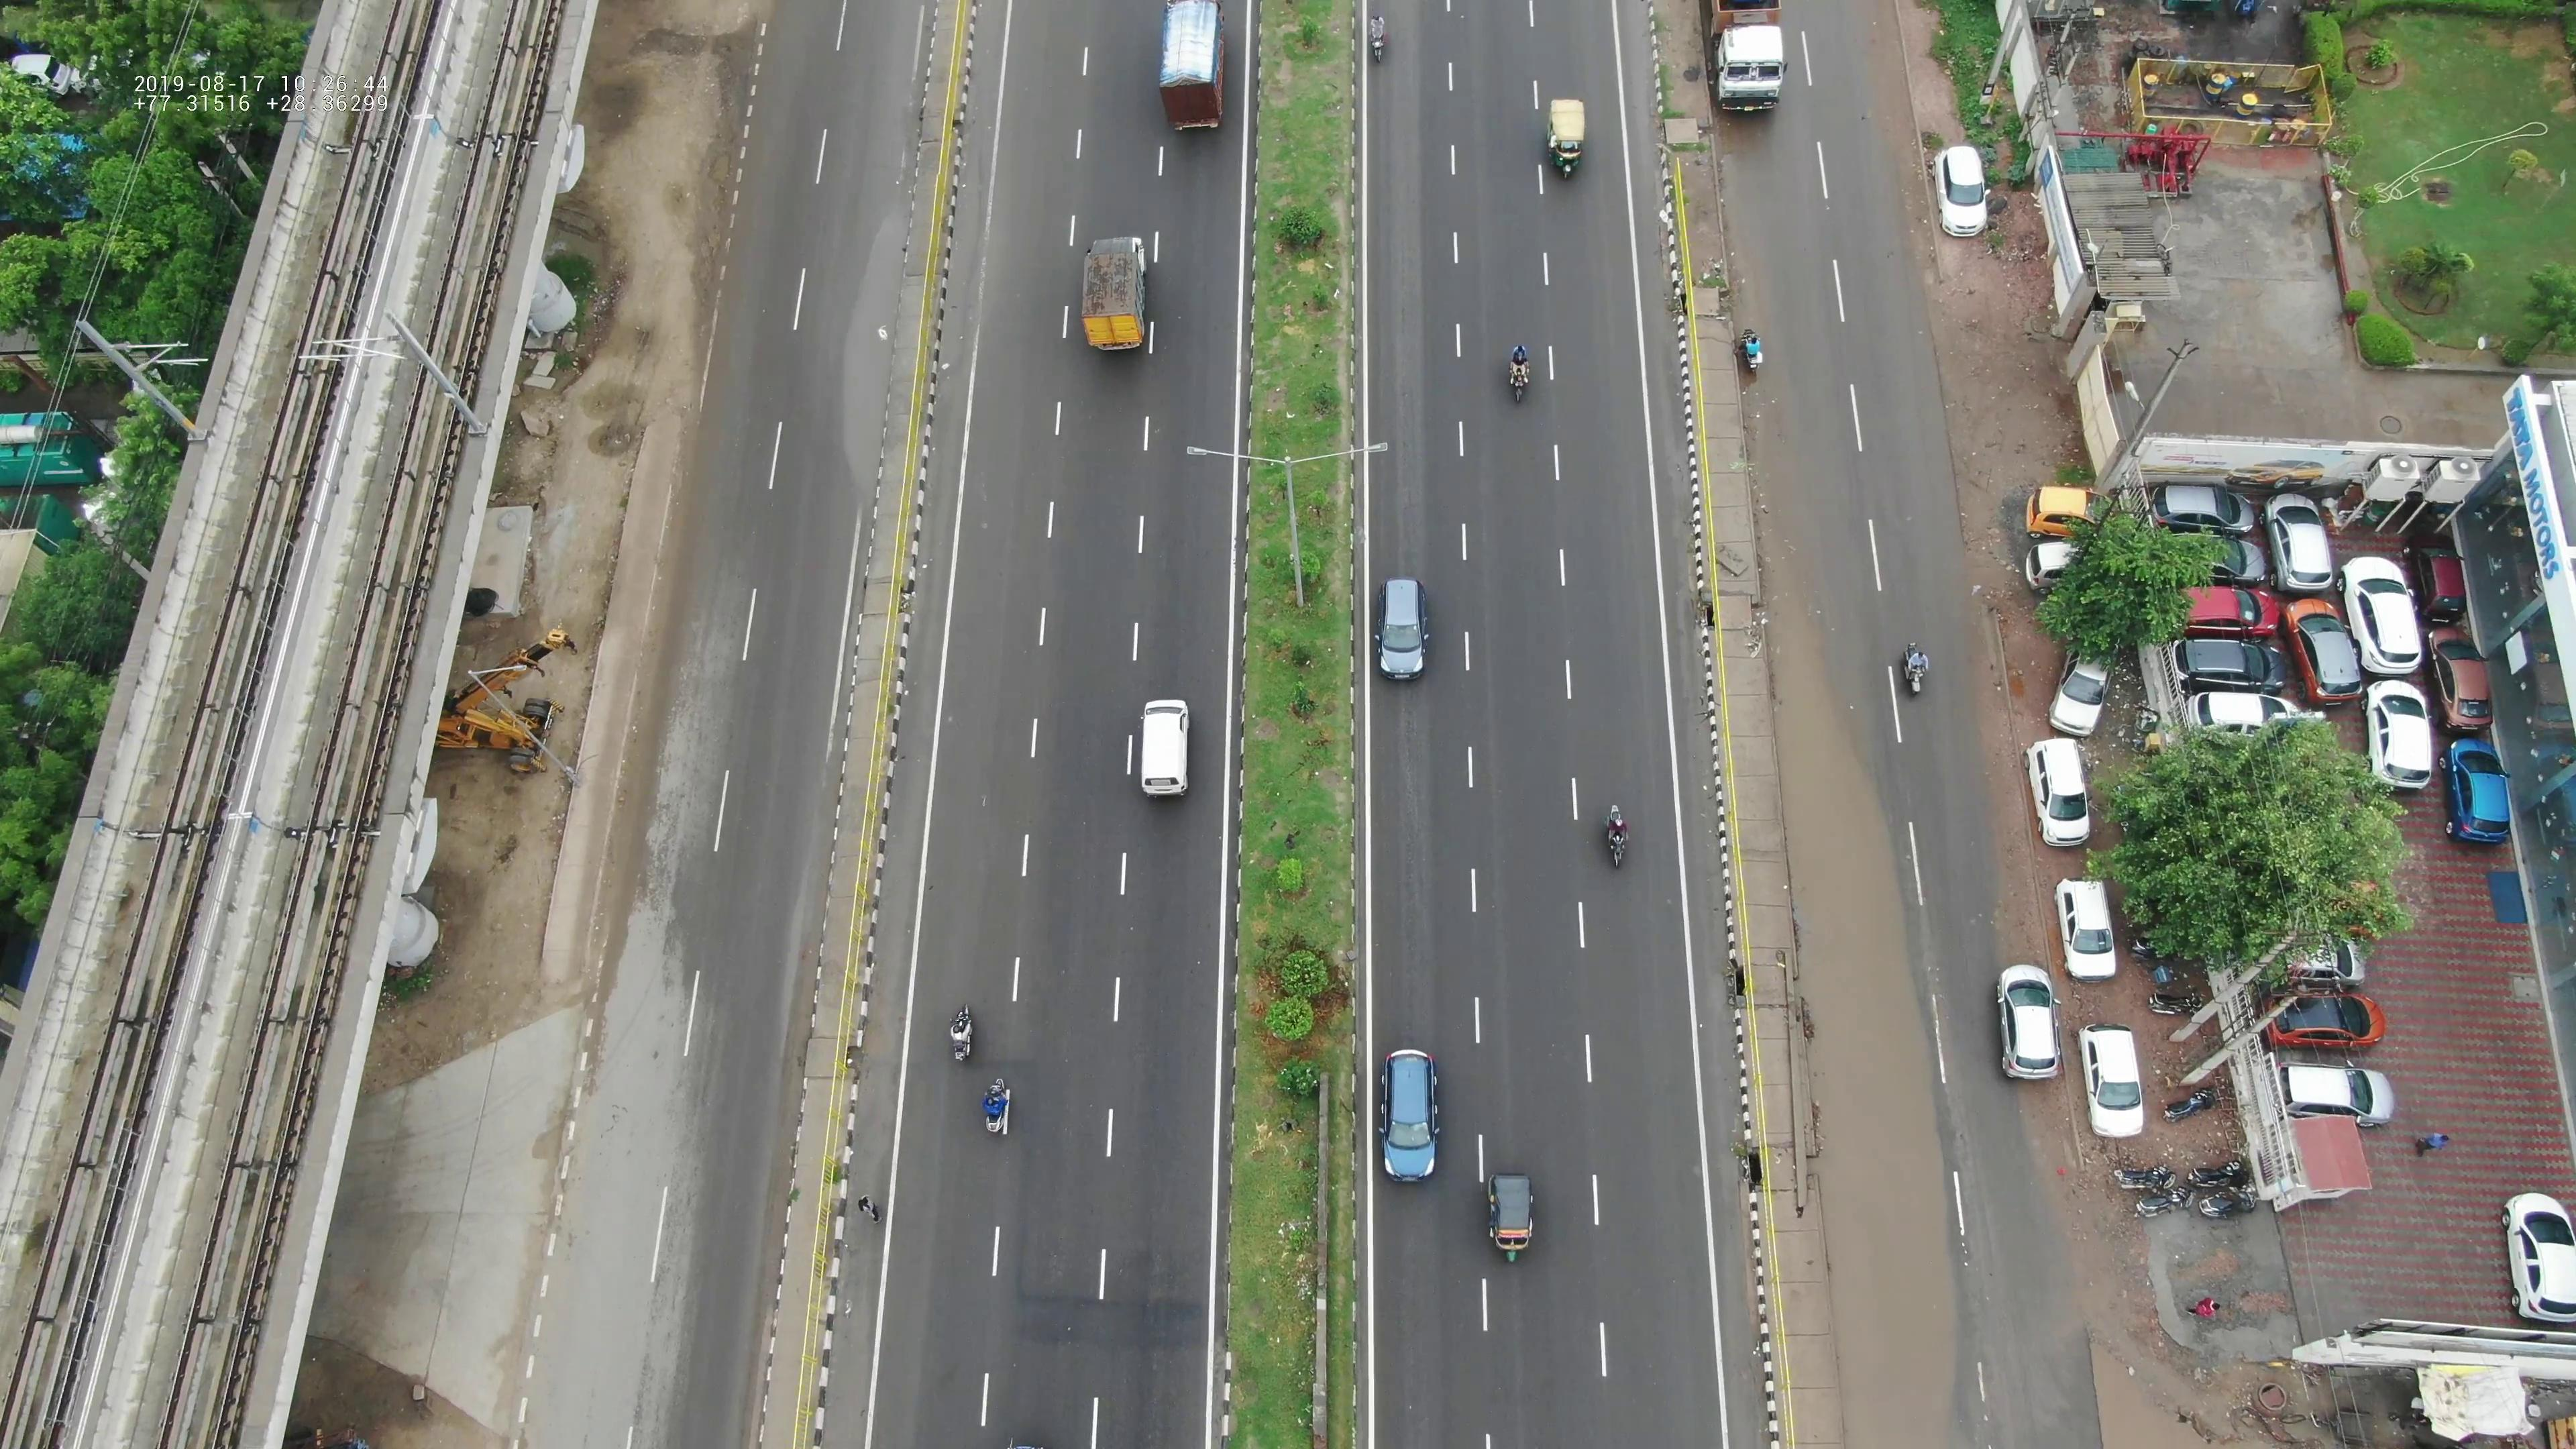Waterlogging: (1767, 621, 1962, 1422)
